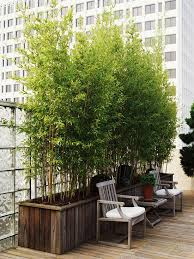bamboo: (84, 34, 174, 167), (28, 19, 79, 195)
